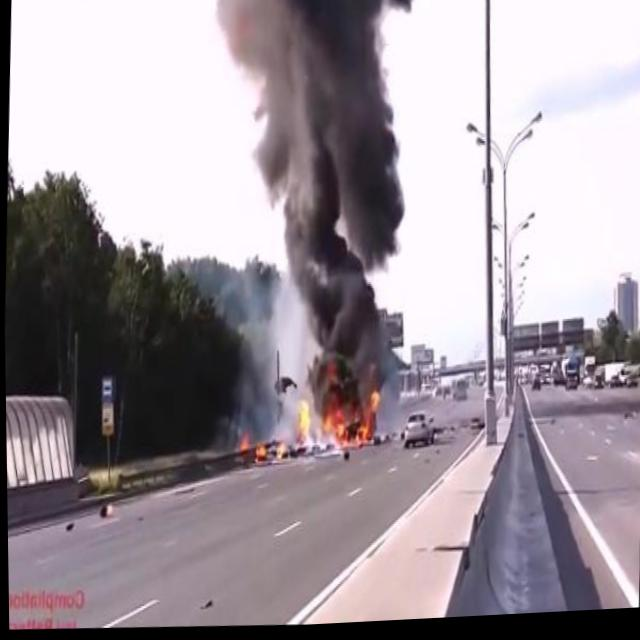fire: (293, 380, 385, 464), (236, 430, 287, 466)
